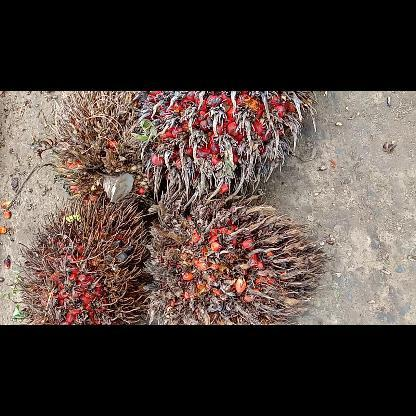Terlalu masak: (145, 186, 329, 324), (134, 90, 316, 208), (13, 196, 149, 324), (47, 91, 167, 204)
